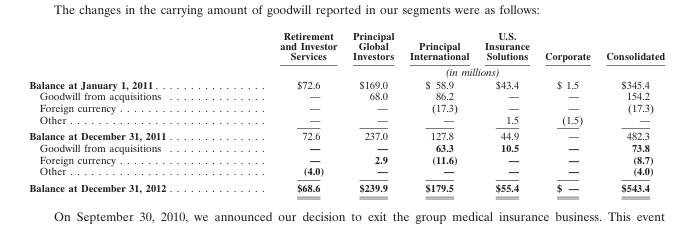table: (28, 28, 664, 193)
table column: (28, 28, 222, 193), (222, 28, 344, 193), (401, 28, 476, 193), (597, 28, 664, 193), (536, 28, 597, 193), (476, 28, 536, 193), (344, 28, 401, 193)
table column header: (28, 28, 664, 77)
table row: (28, 28, 664, 63), (28, 164, 664, 179), (28, 63, 664, 77), (28, 113, 664, 127), (28, 127, 664, 141), (28, 179, 664, 193), (28, 77, 664, 89), (28, 89, 664, 101), (28, 101, 664, 113), (28, 141, 664, 153), (28, 153, 664, 164)
table spanning cell: (222, 63, 664, 77)
